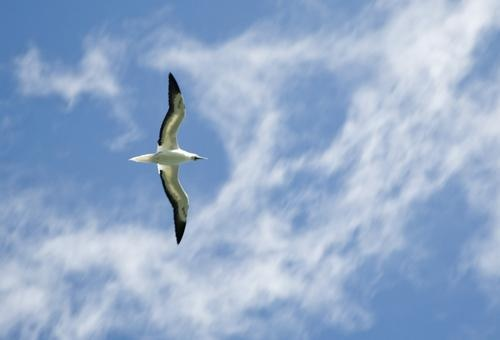bird: (124, 71, 207, 246)
